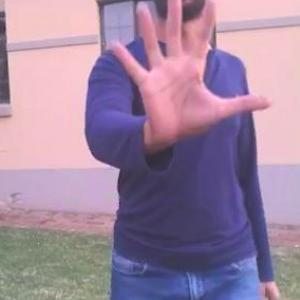follow_hand: (106, 0, 274, 153)
